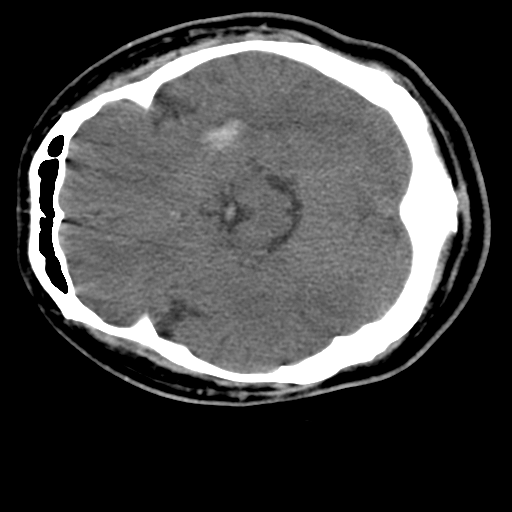a: (176, 98, 268, 175)
